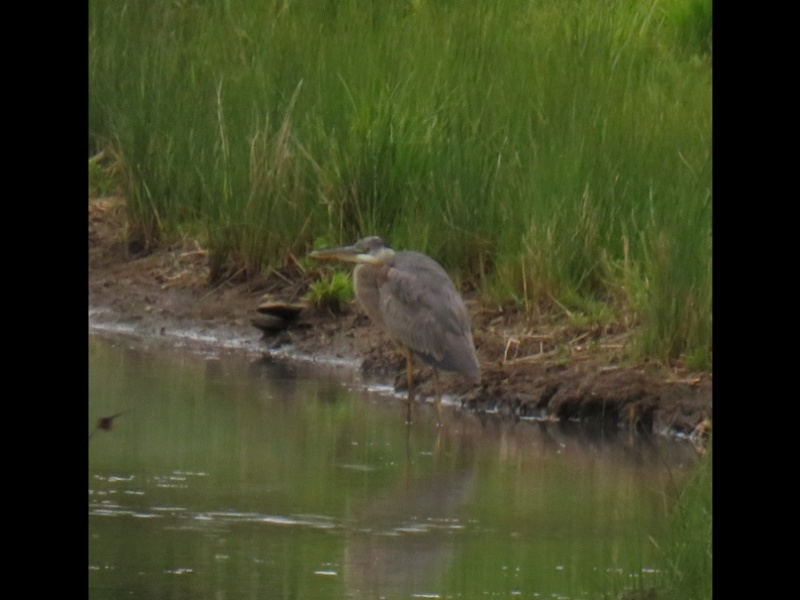heron: (309, 234, 483, 403)
